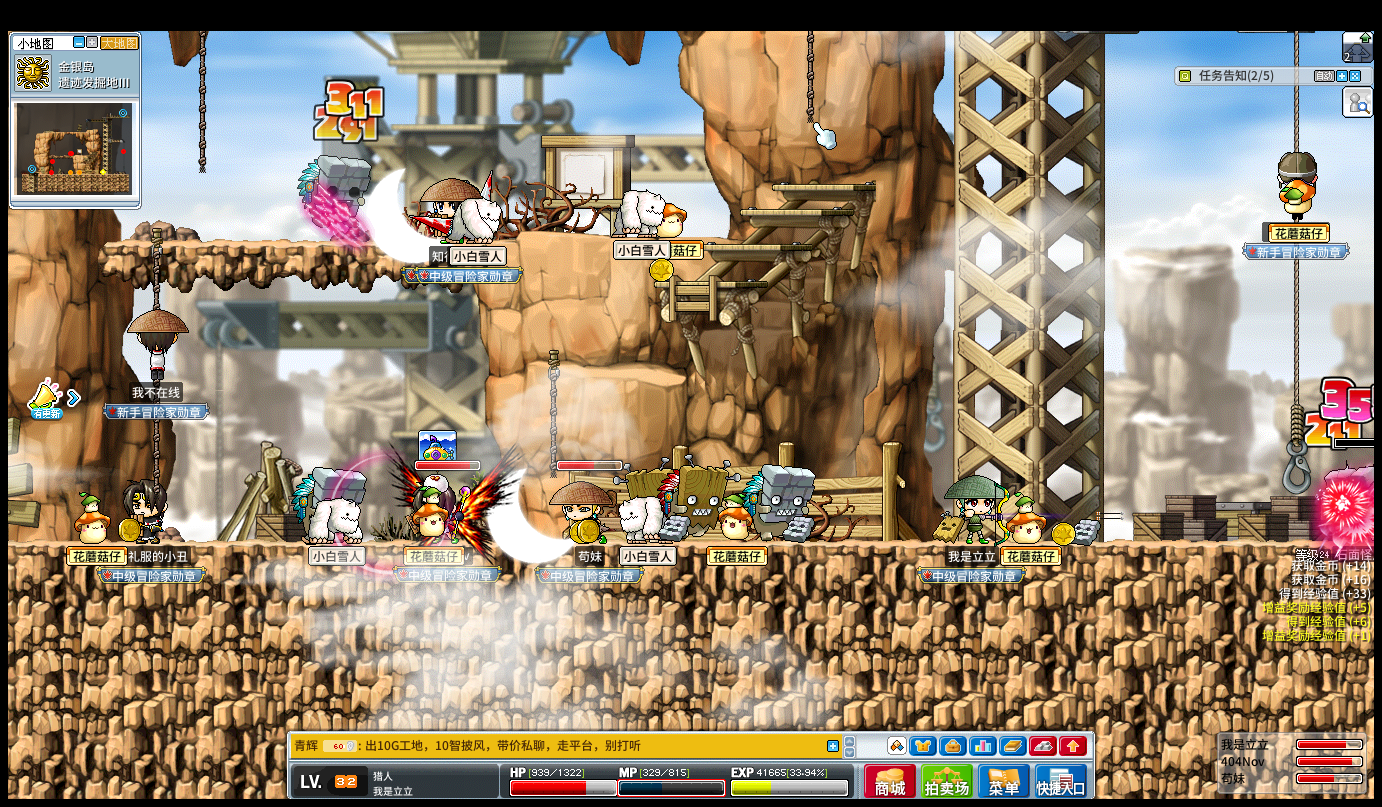floor: (103, 237, 468, 249), (578, 364, 688, 385), (649, 280, 763, 291), (738, 205, 852, 215), (596, 232, 738, 240), (649, 279, 767, 288), (736, 207, 849, 215), (699, 243, 810, 251), (771, 183, 875, 191)
monster: (295, 154, 372, 239), (742, 464, 815, 542), (661, 457, 733, 536)
rope: (544, 352, 559, 478), (546, 350, 561, 474), (1293, 256, 1304, 395), (1291, 257, 1301, 391), (198, 30, 207, 173), (150, 227, 162, 308), (152, 419, 164, 496), (804, 29, 813, 123), (1292, 29, 1299, 148), (151, 419, 160, 491)
